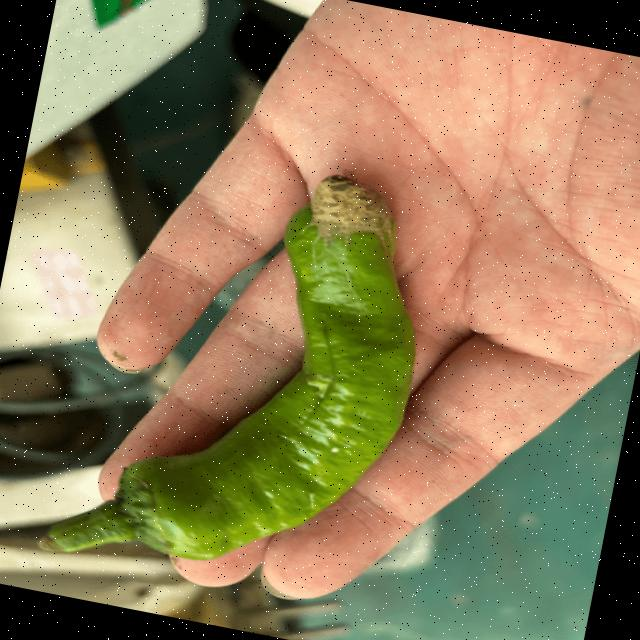chili: (108, 167, 416, 562)
